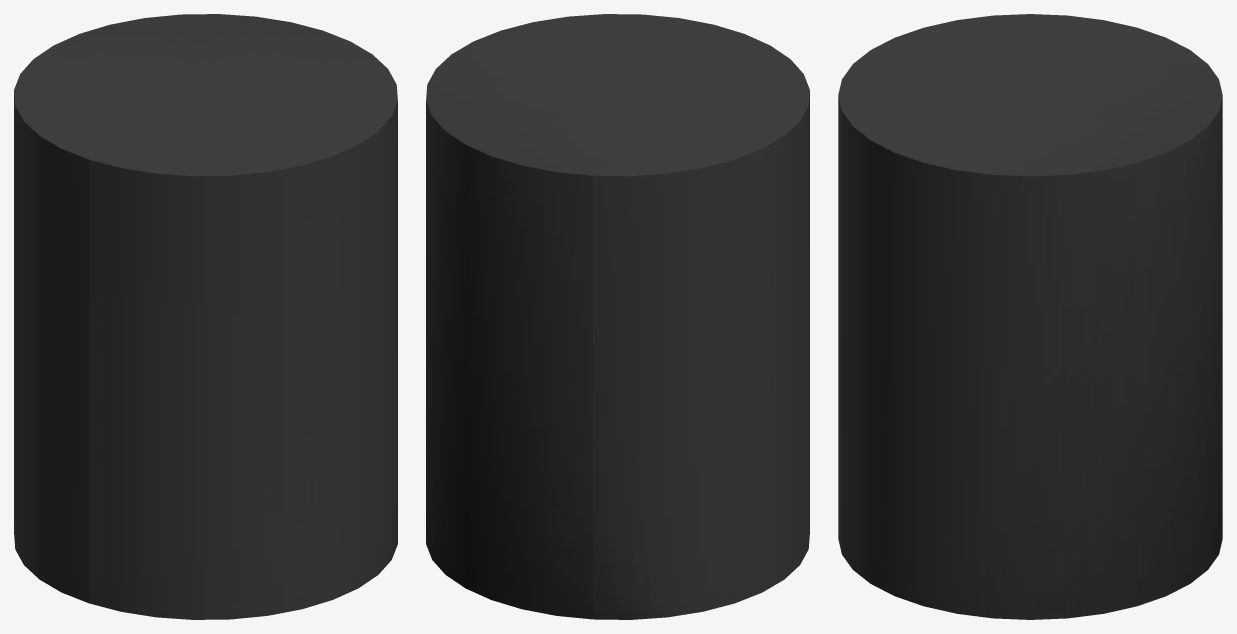
The model's file is leg_roller_0__roller_body.glb.
3 renders of one model, left to right at view 1: azimuth 30°, elevation 25°; view 2: azimuth 150°, elevation 25°; view 3: azimuth 270°, elevation 25°, orthographic.
Visible parts, largest first — view 1: world; view 2: world; view 3: world.
Part boxes in pixels (x1,y1,x2,y2): world: [14, 14, 397, 619]; world: [426, 14, 809, 619]; world: [838, 14, 1222, 619].
Size of the model in its own units: 0.11 by 0.14 by 0.11.
Materials: 1 (1 with a texture image).
